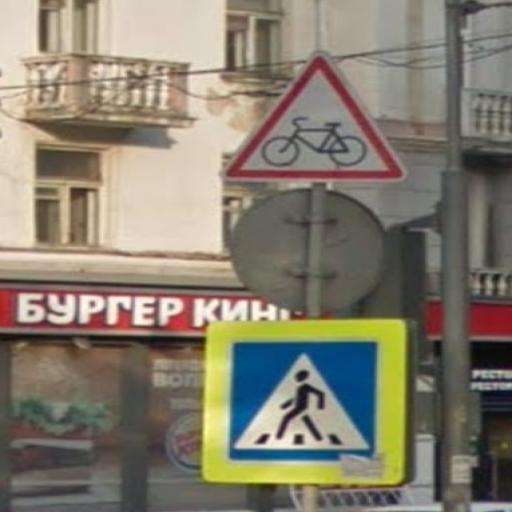traffic_sign: (200, 318, 413, 489), (221, 49, 412, 184)
